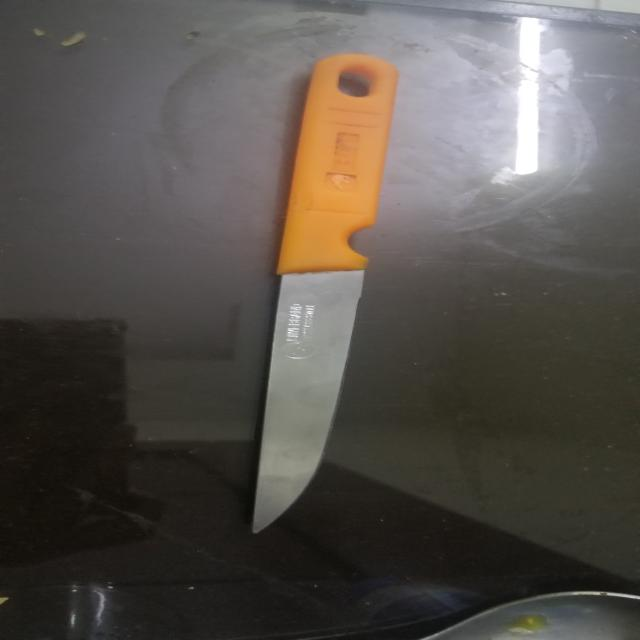Knife: (213, 40, 399, 541)
